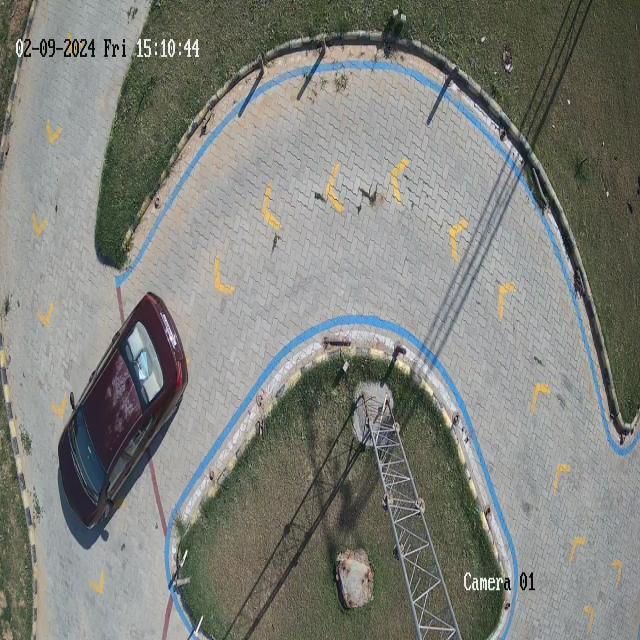car: (58, 290, 189, 530)
